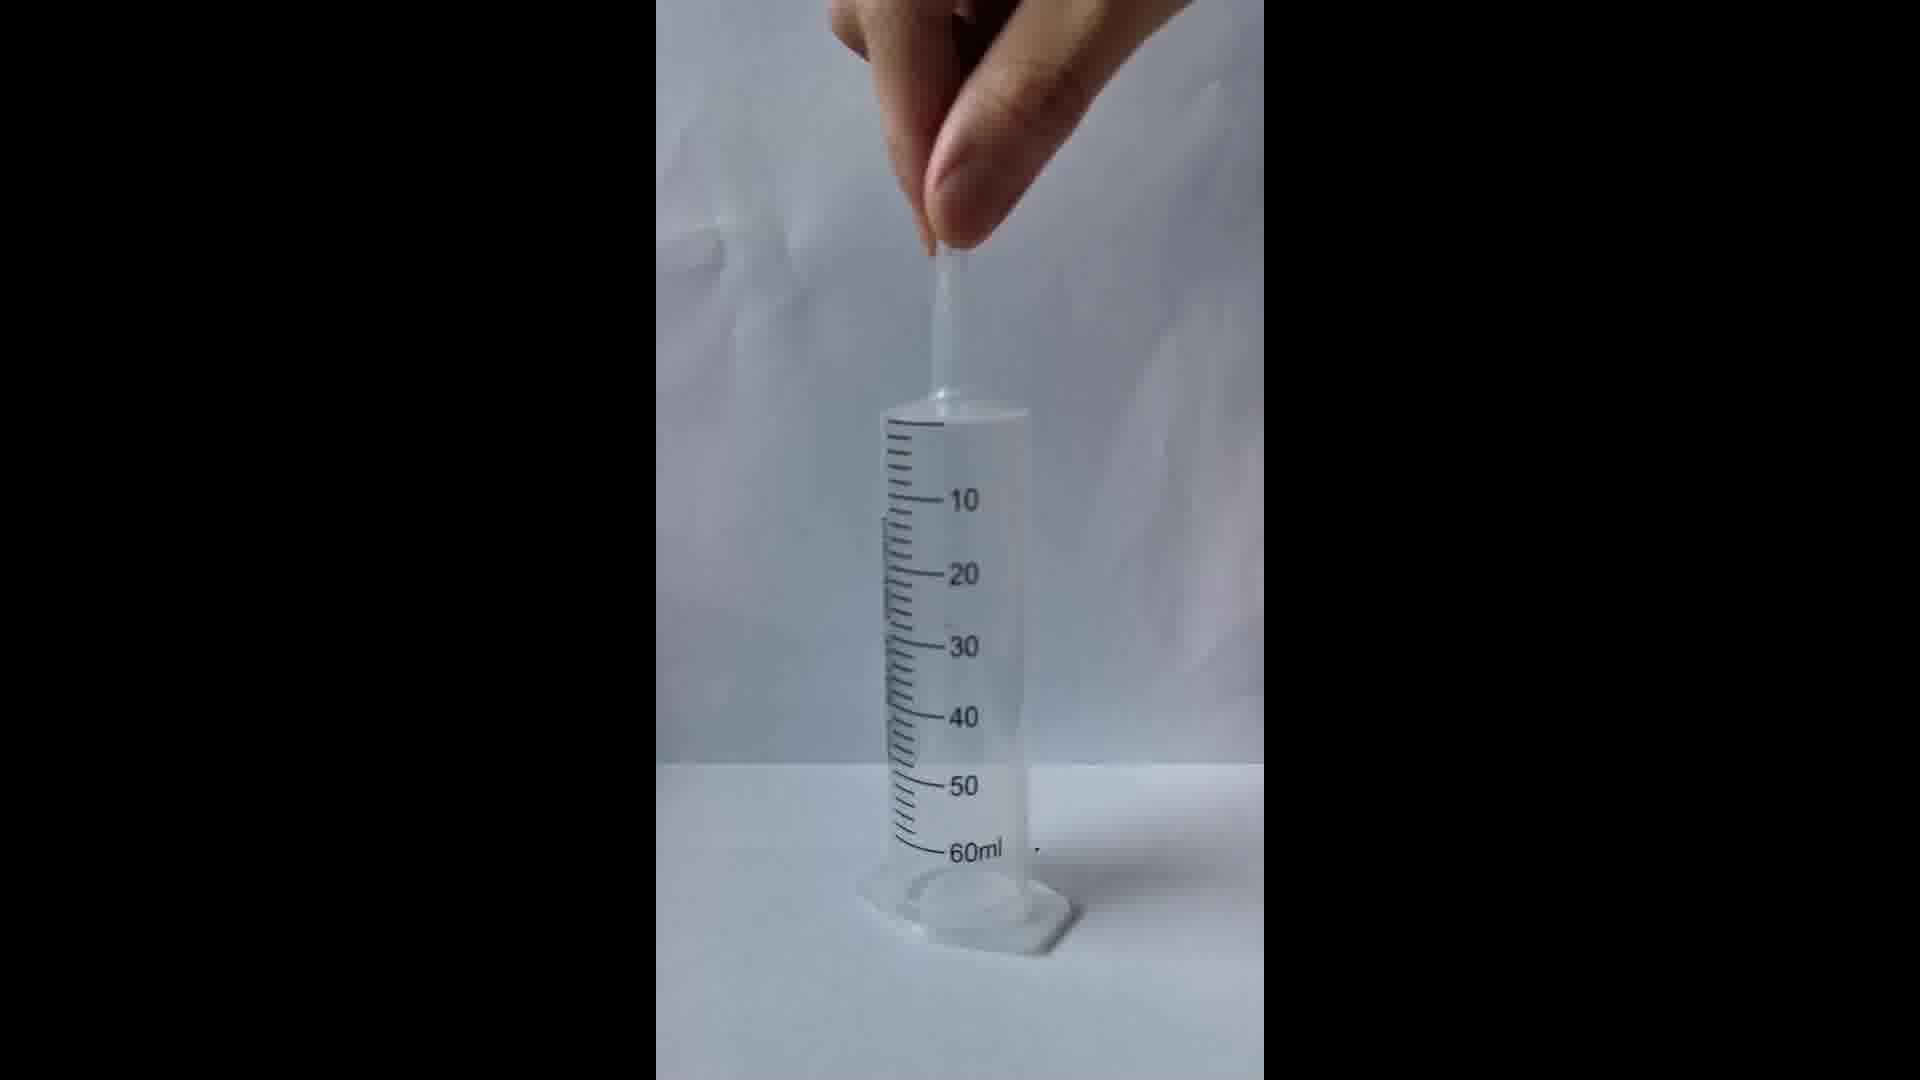syringe: (827, 255, 1095, 975)
